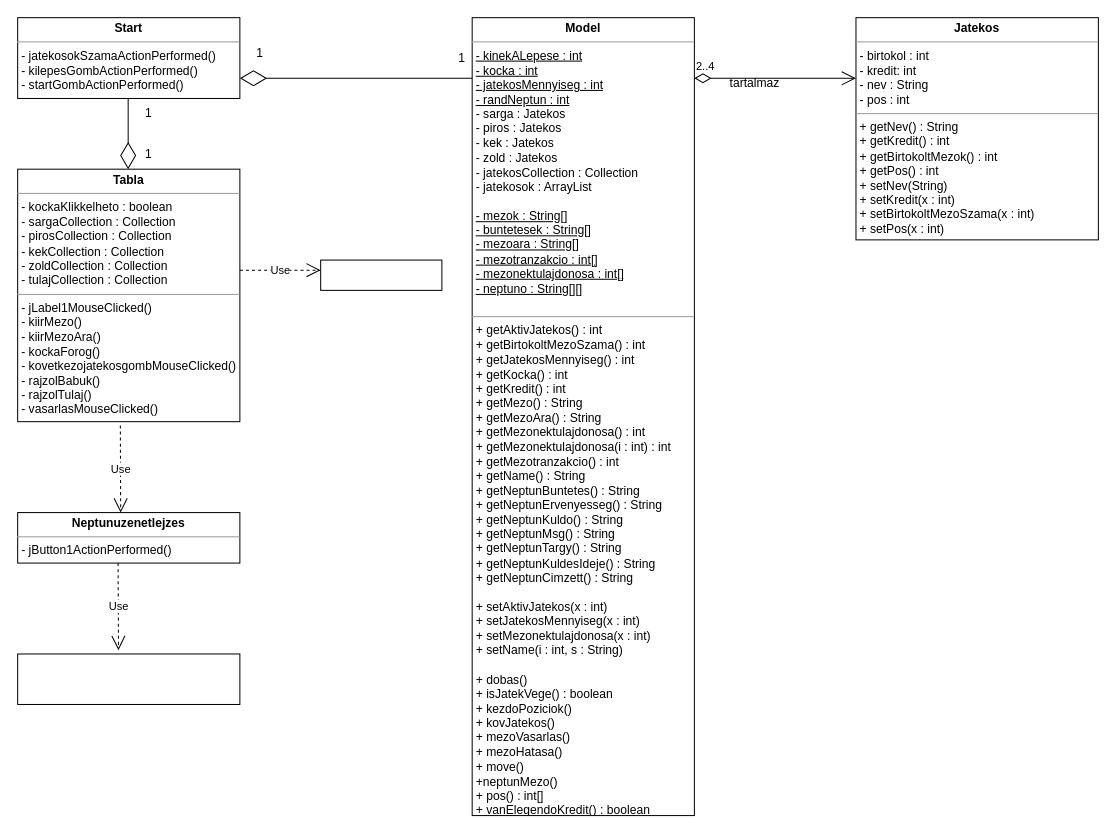
The diagram is 1116 pixels wide and 834 high, and some of its shapes have lost their labels. Here are the shapes that lost their labels. From the top down, the centre of each, then its label:
At (x=381, y=274): "JatekVegeFrame".
At (x=128, y=678): "UzenetFrame - jButton1ActionPerformed()".
